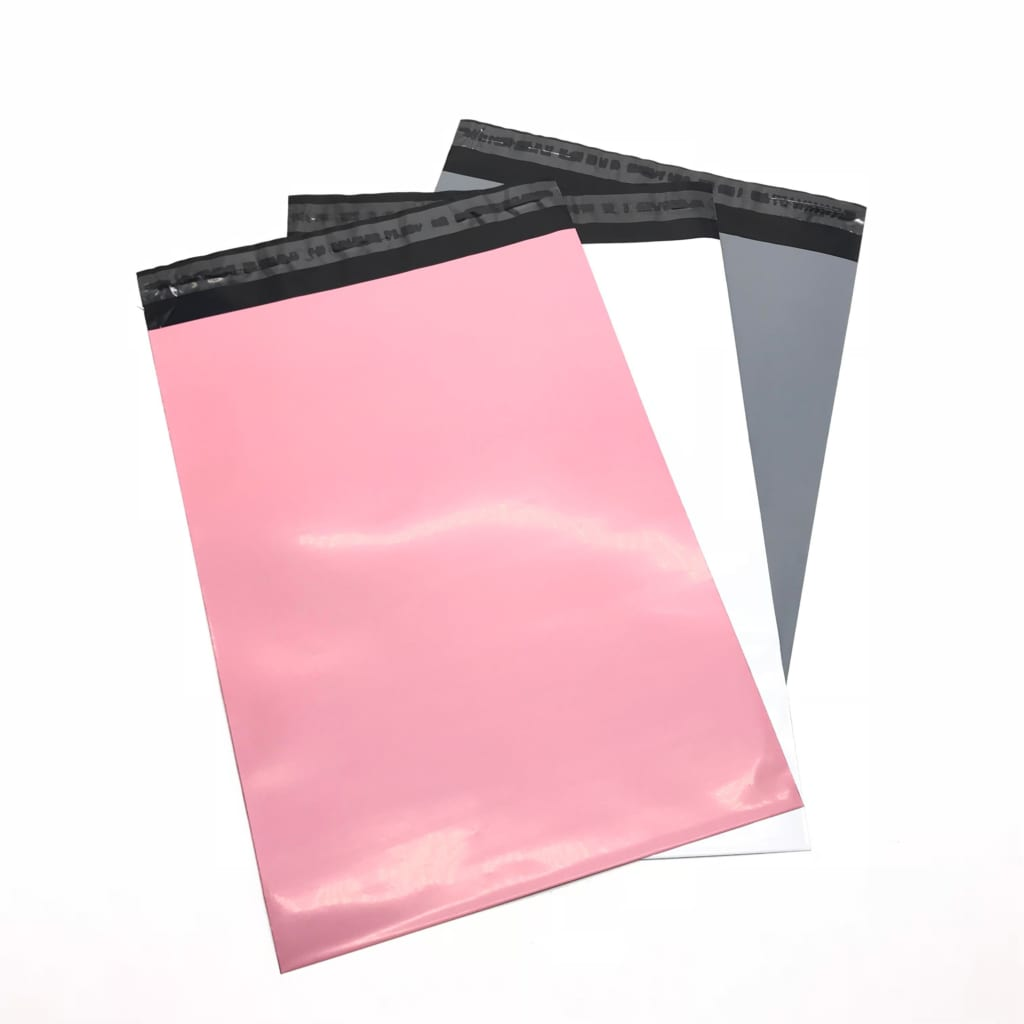塑料袋: (138, 184, 801, 971), (287, 192, 805, 862), (440, 111, 862, 675)
